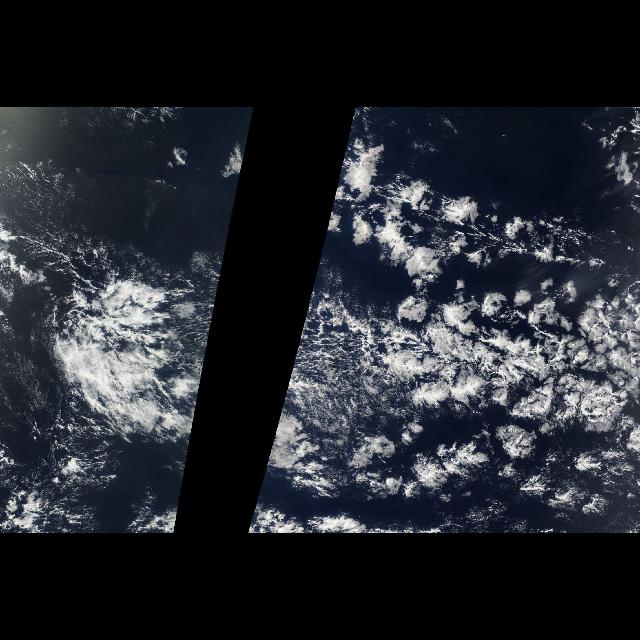Fish: (389, 304, 639, 418)
